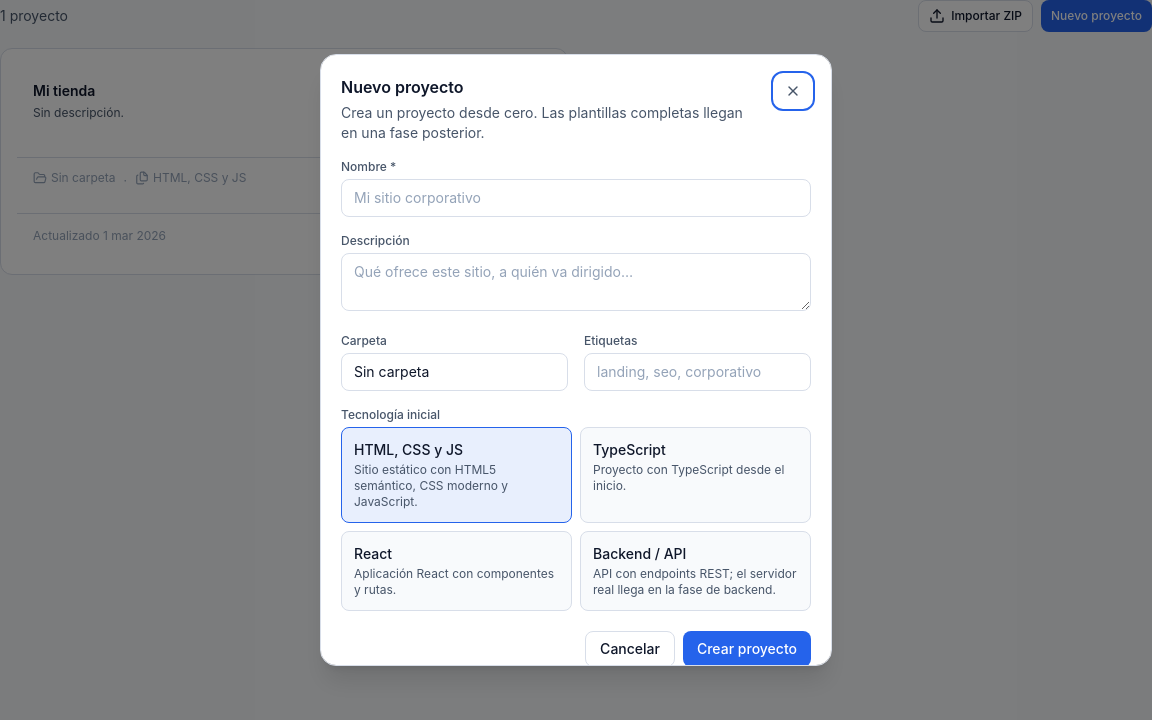
it: ProjectsWorkspace con enlaces profundos › cerrar el formulario no vuelve a abrirlo
Expected: the dialog "Nuevo proyecto" is shown, [320,54,832,666]
Click the button "Cancelar". click: (630, 649)
box: [585,631,675,667]
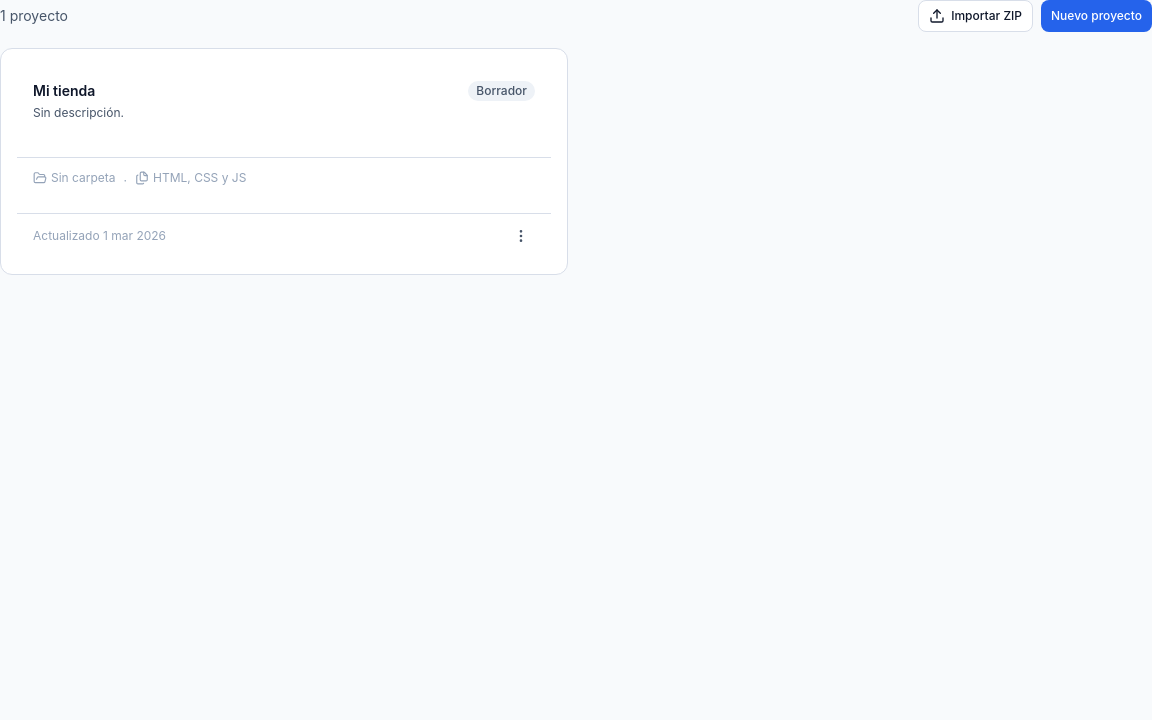
Now the dialog is gone
